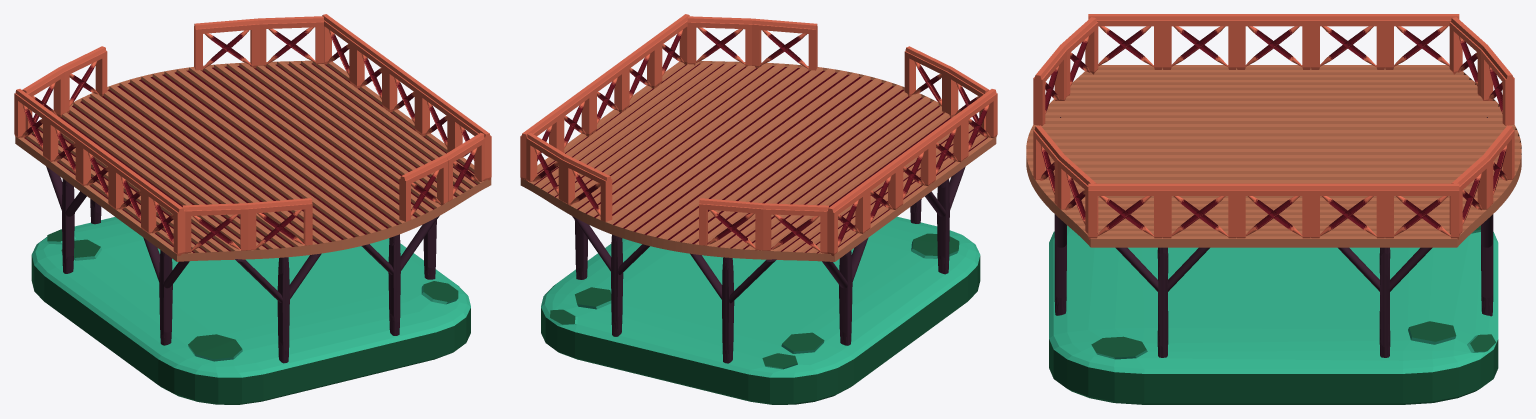
File: hawaiBalcony.fbx
3 views of the same model, side by side, from view 1: azimuth 30°, elevation 25°; view 2: azimuth 150°, elevation 25°; view 3: azimuth 270°, elevation 25° (orthographic). The views are drawn at different scales.
Parts seen in each view (by area): view 1: Cube, Cube.001, Cylinder, curved\.001, fence.002, curved\, fence; view 2: Cube, Cube.001, Cylinder, curved\.001, fence.002, curved\, fence; view 3: Cube, Cube.001, fence, fence.002, Cylinder, curved\, curved\.001.
Boxes of the visible parts, x1=… form: Cube: x1=15, y1=60, x2=491, y2=261; Cube.001: x1=31, y1=217, x2=470, y2=404; Cylinder: x1=46, y1=166, x2=439, y2=363; curved\.001: x1=60, y1=18, x2=448, y2=250; fence.002: x1=14, y1=89, x2=185, y2=256; curved\: x1=22, y1=16, x2=484, y2=253; fence: x1=322, y1=14, x2=491, y2=180; Cube: x1=520, y1=60, x2=996, y2=261; Cube.001: x1=541, y1=216, x2=980, y2=404; Cylinder: x1=572, y1=166, x2=965, y2=363; curved\.001: x1=563, y1=18, x2=951, y2=250; fence.002: x1=827, y1=89, x2=997, y2=256; curved\: x1=526, y1=16, x2=989, y2=253; fence: x1=520, y1=14, x2=689, y2=180; Cube: x1=1026, y1=65, x2=1521, y2=247; Cube.001: x1=1049, y1=225, x2=1498, y2=404; fence: x1=1088, y1=183, x2=1459, y2=239; fence.002: x1=1088, y1=14, x2=1459, y2=69; Cylinder: x1=1054, y1=117, x2=1493, y2=357; curved\: x1=1057, y1=17, x2=1490, y2=235; curved\.001: x1=1033, y1=45, x2=1514, y2=205.
Bounding box in the file's own units: 1533 × 951 × 1843.
